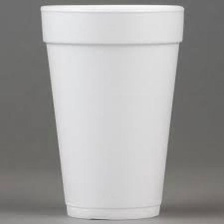paper_cup: (33, 0, 189, 224)
